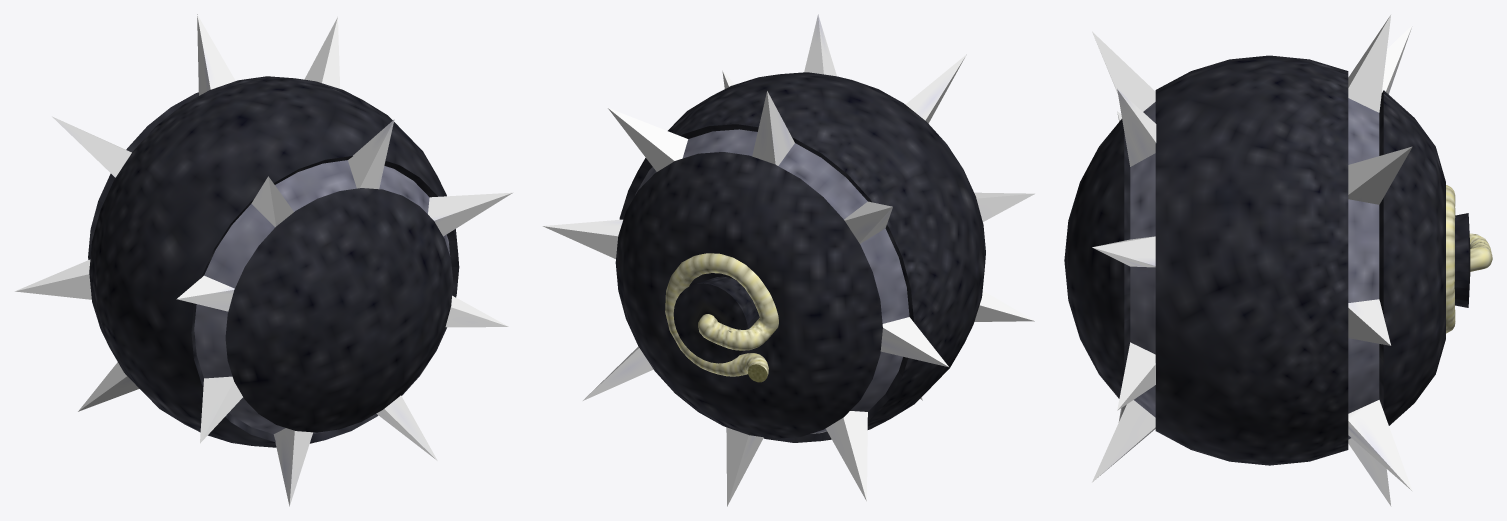
Rendered from bomba.fbx.
3 views of the same model, side by side, from view 1: azimuth 30°, elevation 25°; view 2: azimuth 150°, elevation 25°; view 3: azimuth 270°, elevation 25° (orthographic). The views are drawn at different scales.
Visible parts, largest first — view 1: Bomba; view 2: Bomba; view 3: Bomba.
Part boxes in pixels (<box>): Bomba: <box>15,14,512,506</box>; Bomba: <box>542,14,1034,506</box>; Bomba: <box>1064,14,1492,506</box>.
Bounding box in the file's own units: 253 × 253 × 209.
1 material, 1 textured.
